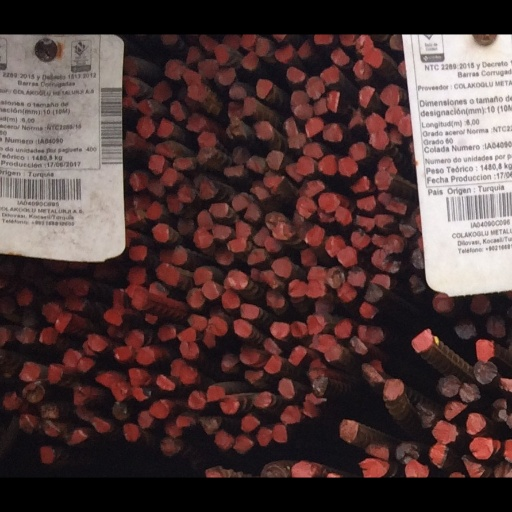dipstick: (430, 420, 456, 443), (469, 436, 493, 460), (473, 361, 498, 384), (360, 459, 389, 477), (411, 329, 433, 351), (23, 381, 45, 403), (358, 325, 384, 343), (382, 379, 403, 401), (465, 412, 486, 434), (305, 224, 325, 247), (339, 418, 359, 441), (290, 460, 317, 477), (429, 444, 448, 468), (416, 403, 434, 428), (438, 375, 459, 396), (225, 270, 248, 289), (379, 84, 399, 105), (475, 338, 494, 360), (469, 294, 491, 313), (443, 402, 466, 420), (96, 371, 125, 385), (365, 112, 385, 132), (351, 231, 371, 251), (460, 382, 480, 402), (136, 117, 155, 138), (325, 266, 344, 287), (159, 438, 180, 457), (2, 391, 21, 412), (396, 443, 417, 462), (486, 316, 505, 337), (405, 460, 428, 477), (362, 48, 382, 67), (337, 157, 357, 176), (384, 233, 403, 253), (337, 247, 357, 266), (272, 257, 291, 277), (208, 316, 228, 335), (306, 78, 324, 99), (462, 459, 483, 477), (454, 321, 475, 339), (310, 336, 335, 351), (187, 84, 209, 101), (318, 194, 340, 211), (253, 120, 272, 139), (384, 106, 403, 125), (325, 237, 344, 256), (433, 293, 452, 312), (233, 318, 252, 337), (153, 81, 171, 101), (163, 60, 181, 80), (198, 59, 218, 77), (155, 140, 175, 158), (129, 171, 147, 191), (197, 181, 217, 199), (369, 131, 389, 149), (337, 283, 357, 301), (20, 362, 40, 380), (122, 54, 139, 75), (266, 149, 283, 170), (178, 341, 199, 358), (199, 416, 221, 432), (260, 463, 285, 477), (272, 224, 295, 239), (330, 47, 349, 65), (318, 155, 336, 174), (194, 228, 212, 247), (307, 316, 326, 334), (270, 321, 289, 339), (136, 345, 154, 364), (18, 413, 36, 432), (234, 435, 253, 453), (240, 414, 259, 432), (288, 346, 306, 365), (362, 365, 381, 383), (196, 147, 216, 164), (264, 176, 284, 193), (156, 324, 176, 341), (188, 390, 205, 410), (279, 406, 299, 423), (256, 78, 272, 99), (302, 181, 323, 197), (335, 318, 351, 339), (65, 295, 89, 309), (359, 85, 374, 107), (353, 61, 371, 79), (323, 123, 341, 141), (122, 77, 139, 96), (186, 114, 205, 131), (355, 35, 372, 54), (378, 155, 397, 172), (240, 303, 259, 320), (126, 267, 145, 284), (214, 430, 233, 447), (263, 354, 280, 373), (366, 445, 389, 459), (147, 154, 163, 174), (124, 330, 144, 346), (87, 334, 107, 350), (16, 327, 36, 343), (239, 348, 259, 364), (67, 429, 87, 445), (170, 100, 185, 121), (217, 68, 235, 85), (305, 118, 322, 136), (177, 185, 195, 202), (152, 224, 169, 242), (297, 198, 315, 215), (351, 176, 369, 193), (347, 267, 364, 285), (307, 280, 324, 298), (288, 280, 306, 297), (221, 291, 239, 308), (315, 294, 332, 312), (122, 423, 140, 440), (157, 118, 173, 137), (286, 67, 305, 83), (303, 142, 322, 158), (355, 215, 374, 231), (193, 267, 212, 283), (260, 270, 276, 289), (245, 248, 264, 264), (363, 285, 382, 301), (187, 289, 203, 308), (103, 309, 122, 325), (20, 309, 39, 325), (63, 348, 79, 367), (221, 354, 240, 370), (206, 385, 225, 401), (220, 398, 239, 414), (278, 378, 294, 397), (176, 219, 193, 236), (216, 247, 233, 264), (43, 304, 60, 321), (151, 401, 168, 418), (303, 403, 320, 420), (247, 155, 265, 171), (320, 66, 338, 82), (349, 141, 365, 159), (72, 280, 90, 296), (17, 287, 33, 305), (271, 425, 287, 443), (243, 97, 258, 116), (197, 131, 216, 146), (264, 212, 283, 227), (375, 171, 390, 190), (128, 245, 147, 260), (371, 273, 390, 288), (113, 345, 132, 360), (40, 403, 59, 418), (257, 427, 272, 446), (326, 91, 340, 111), (356, 196, 376, 210), (374, 214, 394, 228), (128, 368, 142, 388), (249, 186, 270, 199), (274, 44, 291, 60), (226, 102, 242, 119), (138, 99, 154, 116), (232, 146, 248, 163), (298, 157, 314, 174), (245, 203, 261, 220), (252, 228, 268, 245), (202, 282, 218, 299), (301, 249, 317, 266), (351, 337, 367, 354), (40, 326, 56, 343), (169, 360, 186, 376), (112, 403, 128, 420), (183, 69, 201, 84), (287, 133, 305, 148), (197, 211, 212, 229), (187, 314, 205, 329), (112, 385, 127, 403), (155, 375, 173, 390), (326, 344, 341, 362), (284, 117, 298, 136), (209, 202, 228, 216), (125, 209, 144, 223), (172, 245, 186, 264), (410, 275, 424, 294), (224, 164, 244, 177), (387, 201, 407, 214), (371, 250, 384, 270), (241, 52, 257, 68), (160, 169, 176, 185), (167, 195, 183, 211), (290, 321, 306, 337), (56, 313, 72, 329), (312, 377, 328, 393), (489, 406, 505, 422), (214, 46, 229, 63), (290, 90, 307, 105), (212, 224, 229, 239), (336, 208, 351, 225), (267, 291, 284, 306), (181, 367, 196, 384), (164, 421, 181, 436), (43, 421, 60, 436), (198, 35, 216, 49), (226, 238, 244, 252), (399, 115, 411, 136), (383, 259, 401, 273), (164, 267, 178, 285), (360, 303, 378, 317), (91, 418, 109, 432), (253, 391, 271, 405), (297, 40, 310, 59), (41, 445, 54, 464), (229, 84, 245, 99), (232, 195, 248, 210), (154, 263, 169, 279), (264, 337, 279, 353), (295, 104, 312, 118), (285, 162, 299, 179), (48, 366, 62, 383), (226, 119, 239, 137), (398, 224, 416, 237), (306, 267, 324, 280), (132, 290, 145, 308), (178, 328, 196, 341), (172, 158, 193, 169), (177, 415, 196, 427), (235, 222, 250, 237), (348, 110, 363, 125), (149, 282, 164, 297), (122, 95, 138, 109), (122, 131, 136, 147), (74, 387, 88, 403), (255, 38, 268, 55), (131, 389, 148, 402), (138, 411, 151, 428), (265, 238, 283, 250), (389, 129, 401, 147), (303, 394, 327, 403), (148, 182, 163, 196), (113, 289, 124, 308), (244, 371, 263, 382), (77, 359, 93, 372), (312, 35, 332, 45), (412, 249, 422, 269), (106, 326, 124, 337), (76, 409, 94, 420), (240, 35, 255, 48), (371, 233, 384, 248), (186, 46, 198, 62), (148, 202, 160, 218), (202, 331, 214, 347), (314, 98, 325, 115), (224, 35, 239, 47), (159, 247, 171, 262), (125, 284, 140, 296), (160, 35, 177, 45), (318, 212, 334, 222), (308, 368, 324, 378), (340, 35, 355, 45), (378, 191, 390, 203), (144, 312, 158, 322), (492, 398, 506, 407), (372, 359, 381, 372)
